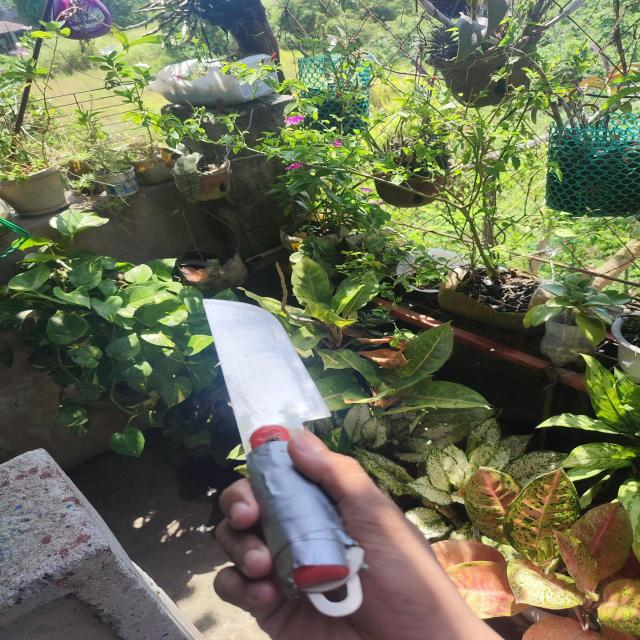knife: (202, 298, 363, 617)
